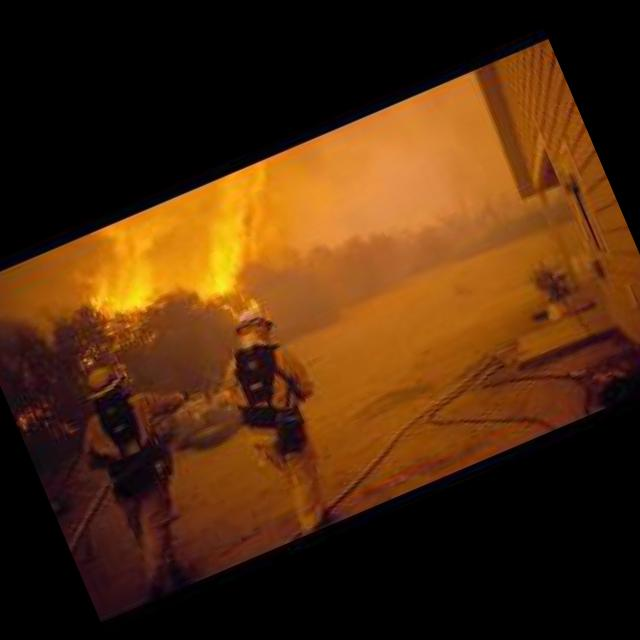fire: (143, 158, 320, 337), (42, 212, 189, 360)
